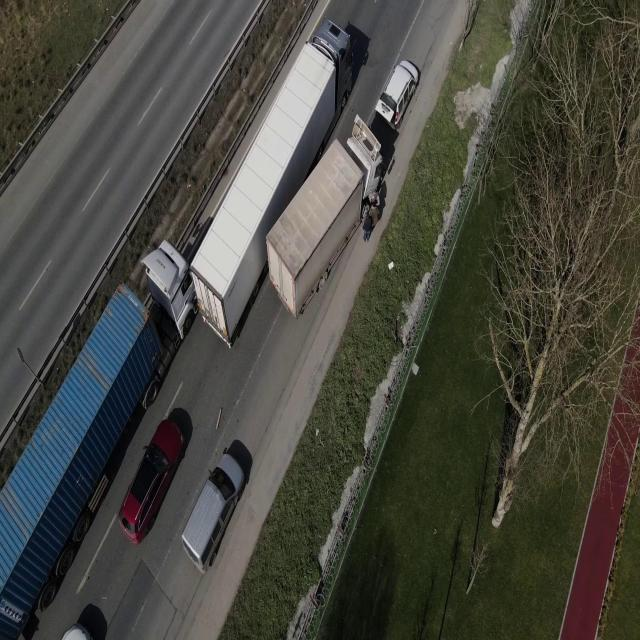p3rson: (362, 214, 372, 242), (370, 202, 378, 233), (372, 190, 380, 208)
